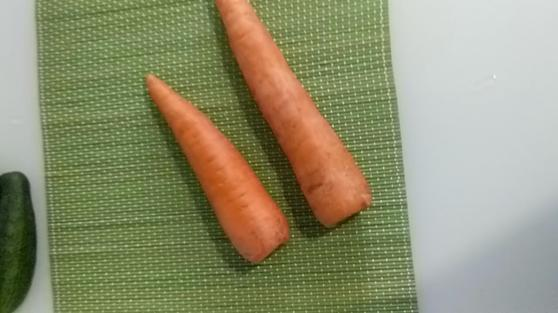carrot: (216, 1, 372, 229), (141, 73, 291, 266)
